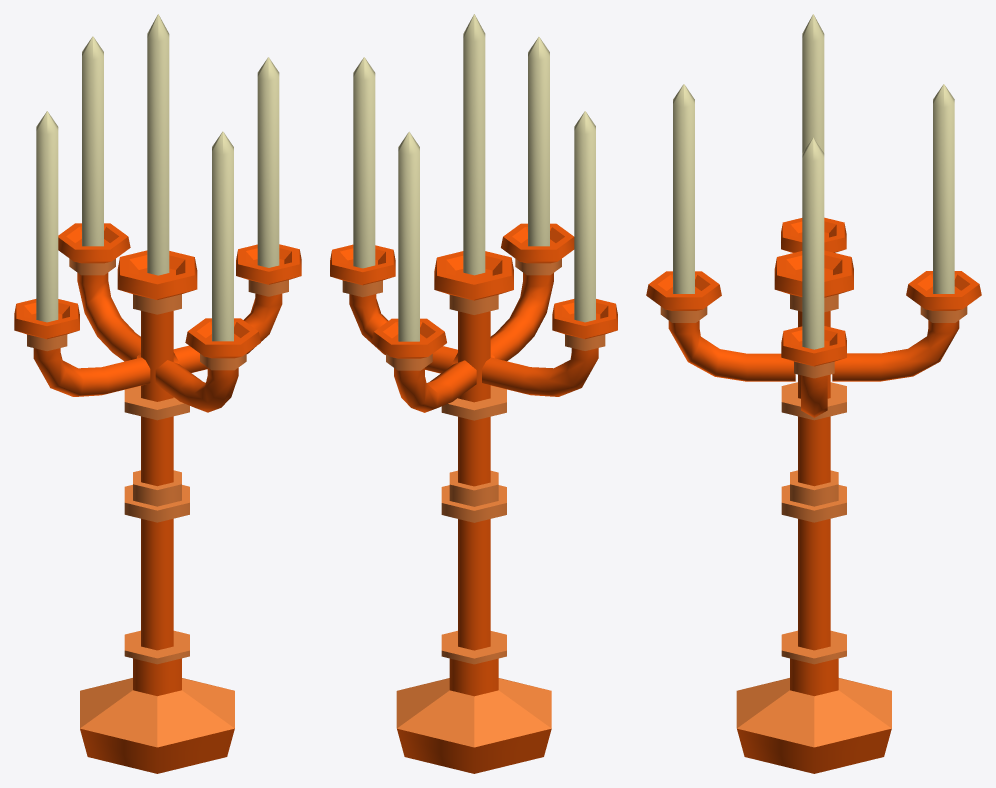
File: Candelabra.FBX
3 views of the same model, side by side, from view 1: azimuth 30°, elevation 25°; view 2: azimuth 150°, elevation 25°; view 3: azimuth 270°, elevation 25° (orthographic).
Visible parts, largest first — view 1: Candlebra Stand, Candle, Candle Hand 003, Candle Hand 002, Candle Hand 004, Candle002, Candle001, Candle003, Candle004, Candle Hand 001; view 2: Candlebra Stand, Candle, Candle Hand 003, Candle Hand 004, Candle Hand 002, Candle001, Candle002, Candle004, Candle003, Candle Hand 001; view 3: Candlebra Stand, Candle Hand 002, Candle Hand 004, Candle001, Candle003, Candle004, Candle Hand 001, Candle, Candle Hand 003.
Part boxes in pixels (bbox=[...]): Candlebra Stand: bbox=[80, 250, 234, 773]; Candle: bbox=[147, 14, 169, 275]; Candle Hand 003: bbox=[14, 299, 150, 396]; Candle Hand 002: bbox=[58, 223, 140, 361]; Candle Hand 004: bbox=[155, 318, 260, 412]; Candle002: bbox=[36, 111, 58, 322]; Candle001: bbox=[257, 57, 279, 267]; Candle003: bbox=[82, 36, 103, 246]; Candle004: bbox=[212, 131, 233, 341]; Candle Hand 001: bbox=[173, 244, 301, 372]; Candlebra Stand: bbox=[396, 251, 551, 773]; Candle: bbox=[463, 14, 485, 275]; Candle Hand 003: bbox=[482, 299, 617, 396]; Candle Hand 004: bbox=[490, 223, 574, 361]; Candle Hand 002: bbox=[371, 318, 476, 412]; Candle001: bbox=[353, 57, 375, 268]; Candle002: bbox=[574, 111, 595, 322]; Candle004: bbox=[528, 37, 549, 246]; Candle003: bbox=[398, 131, 419, 341]; Candle Hand 001: bbox=[330, 244, 457, 373]; Candlebra Stand: bbox=[736, 250, 891, 773]; Candle Hand 002: bbox=[832, 271, 981, 381]; Candle Hand 004: bbox=[646, 271, 795, 381]; Candle001: bbox=[802, 137, 824, 349]; Candle003: bbox=[933, 84, 954, 293]; Candle004: bbox=[673, 84, 694, 293]; Candle Hand 001: bbox=[781, 326, 846, 417]; Candle: bbox=[802, 14, 824, 152]; Candle Hand 003: bbox=[781, 217, 846, 252].
Size of the model in its own units: 0.3528 by 0.8503 by 0.3563.
